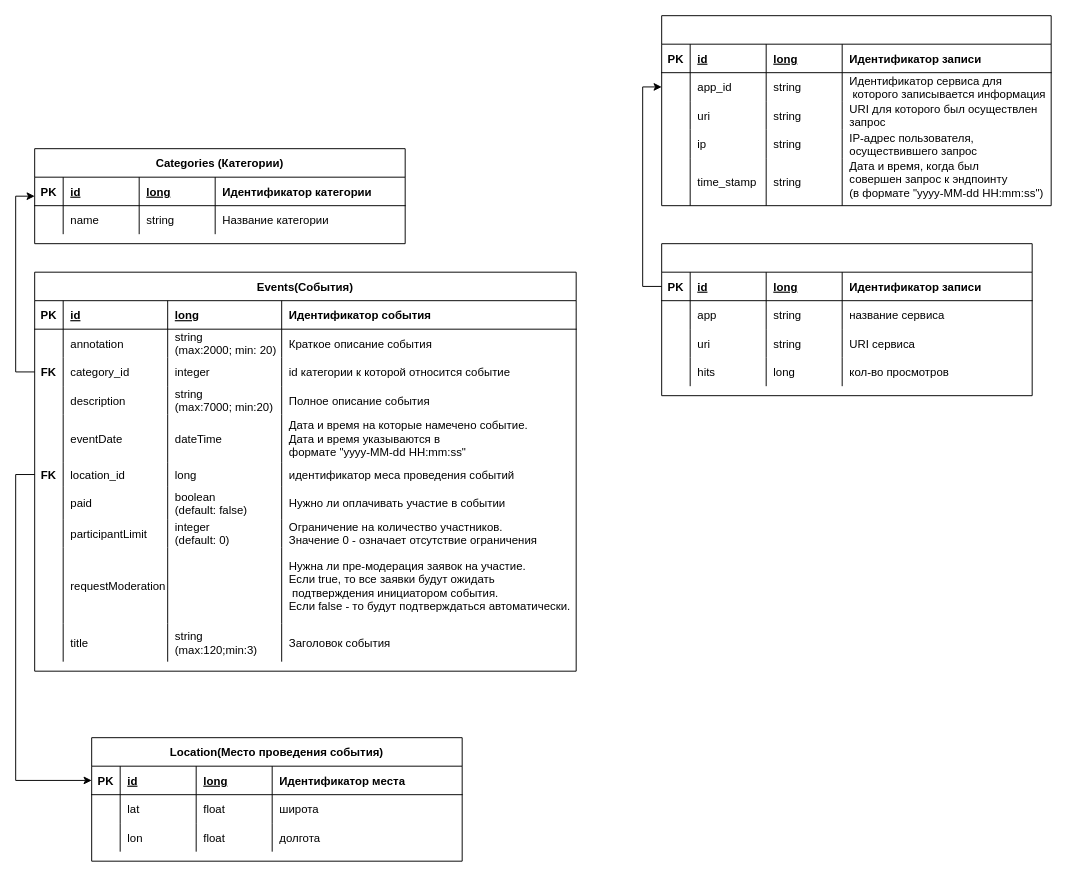
The diagram is 1067 pixels wide and 877 high, and some of its shapes have lost their labels. Here are the shapes that lost their labels. From the top down, the box of each, then its label:
(661, 15, 1051, 206): EndpointHit (Сервис статистики)
(661, 243, 1032, 396): ViewStats (статистика обращений)
